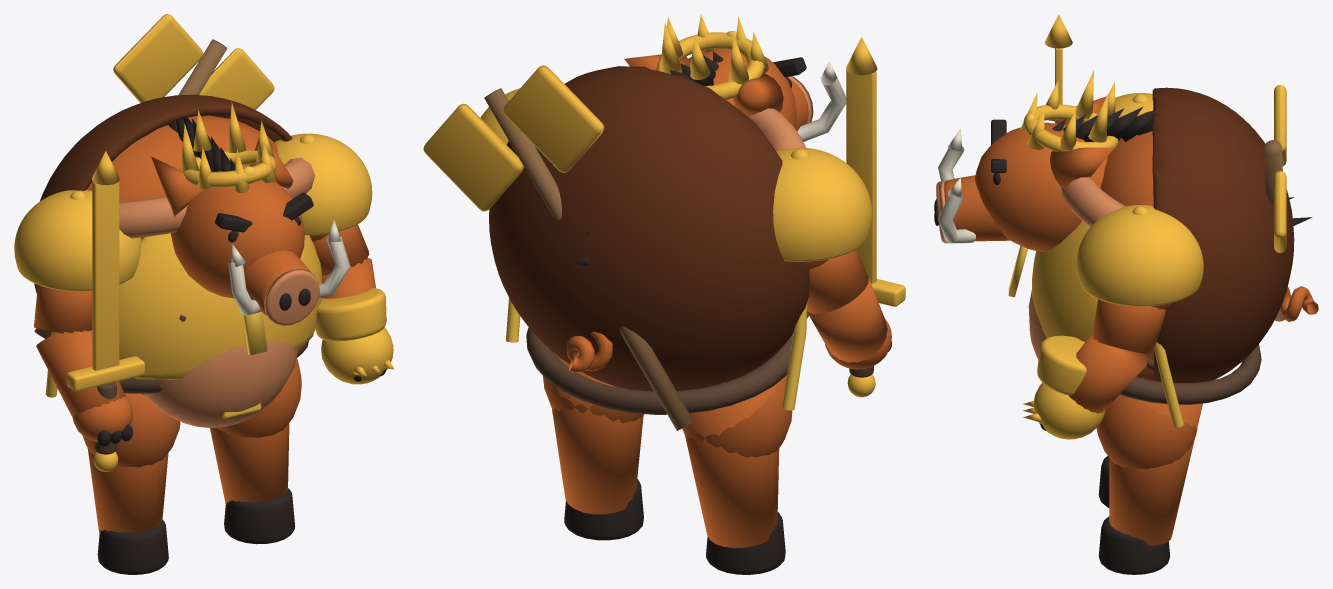
The model's file is CurlyTail.fbx.
3 renders of one model, left to right at view 1: azimuth 30°, elevation 25°; view 2: azimuth 150°, elevation 25°; view 3: azimuth 270°, elevation 25°, orthographic. The views are drawn at different scales.
Visible parts, largest first — view 1: CurlyTail, Gear_golden_chestplate, Gear_golden_war_axe, Gear_golden_sword, Gear_golden_gauntlet, Gear_tyrants_crown; view 2: CurlyTail, Gear_golden_war_axe, Gear_golden_chestplate, Gear_golden_sword, Gear_tyrants_crown; view 3: CurlyTail, Gear_golden_chestplate, Gear_golden_gauntlet, Gear_tyrants_crown, Gear_golden_war_axe, Gear_golden_sword.
Boxes of the visible parts, x1=… form: CurlyTail: x1=34, y1=94, x2=386, y2=574; Gear_golden_chestplate: x1=14, y1=133, x2=372, y2=379; Gear_golden_war_axe: x1=34, y1=14, x2=274, y2=338; Gear_golden_sword: x1=66, y1=151, x2=144, y2=471; Gear_golden_gauntlet: x1=315, y1=288, x2=394, y2=384; Gear_tyrants_crown: x1=180, y1=102, x2=277, y2=193; CurlyTail: x1=489, y1=49, x2=891, y2=574; Gear_golden_war_axe: x1=423, y1=65, x2=693, y2=430; Gear_golden_chestplate: x1=480, y1=88, x2=872, y2=318; Gear_golden_sword: x1=846, y1=37, x2=905, y2=397; Gear_tyrants_crown: x1=656, y1=14, x2=768, y2=99; CurlyTail: x1=934, y1=87, x2=1318, y2=574; Gear_golden_chestplate: x1=1008, y1=93, x2=1203, y2=341; Gear_golden_gauntlet: x1=1023, y1=335, x2=1105, y2=439; Gear_tyrants_crown: x1=1020, y1=70, x2=1118, y2=151; Gear_golden_war_axe: x1=1146, y1=85, x2=1286, y2=373; Gear_golden_sword: x1=1044, y1=14, x2=1072, y2=123.
Size of the model in its own units: 1.25 by 1.63 by 1.22.
